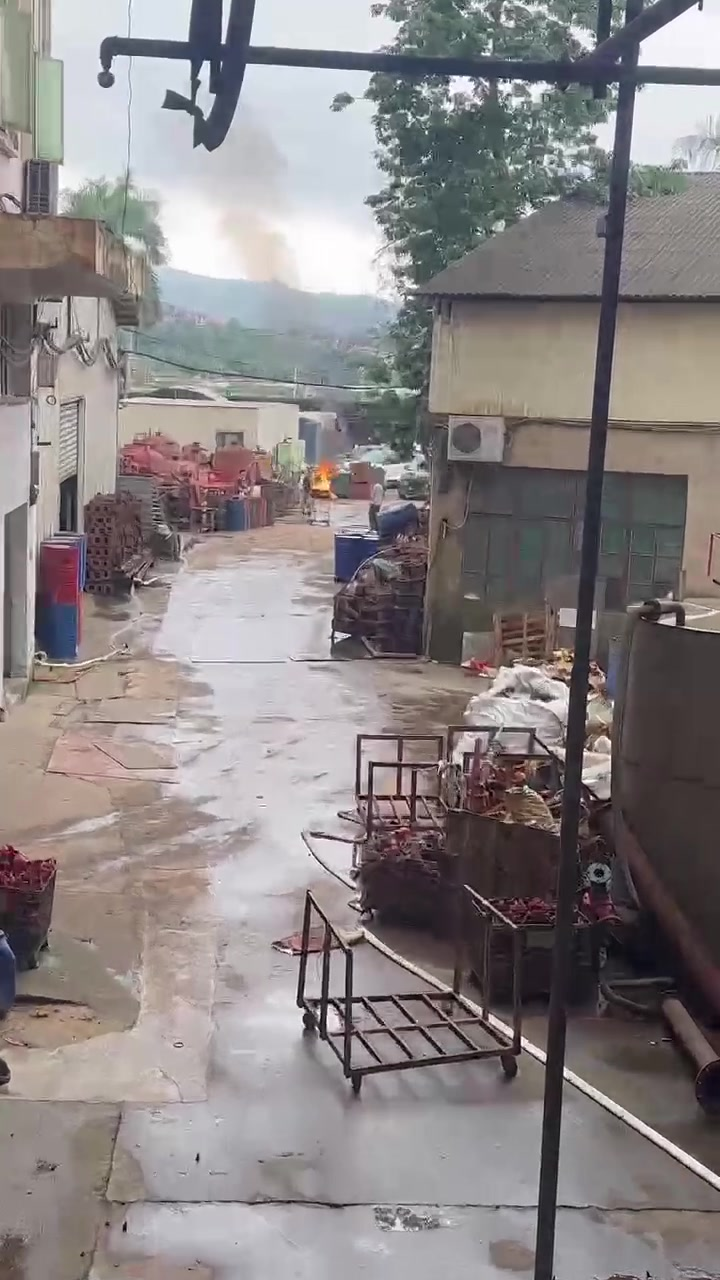fire: (310, 461, 330, 490)
